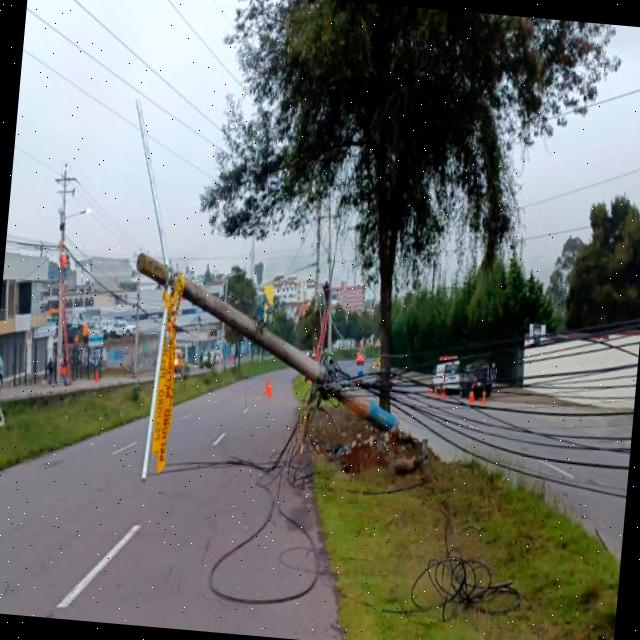Broken Pole: (134, 247, 396, 481)
